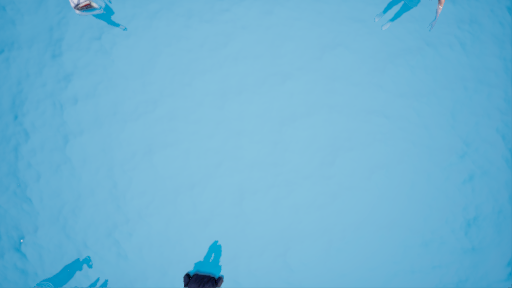person: (370, 1, 463, 41), (181, 236, 232, 288), (66, 1, 132, 34)
